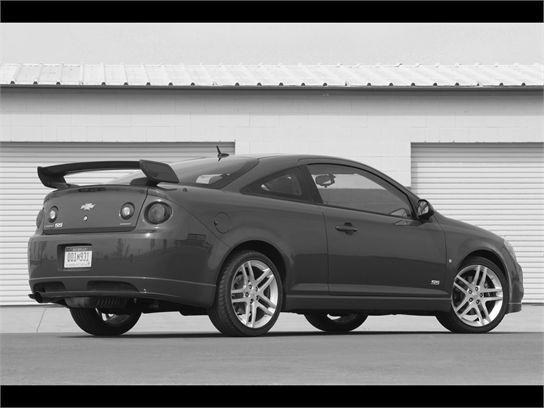car: (24, 148, 528, 343)
